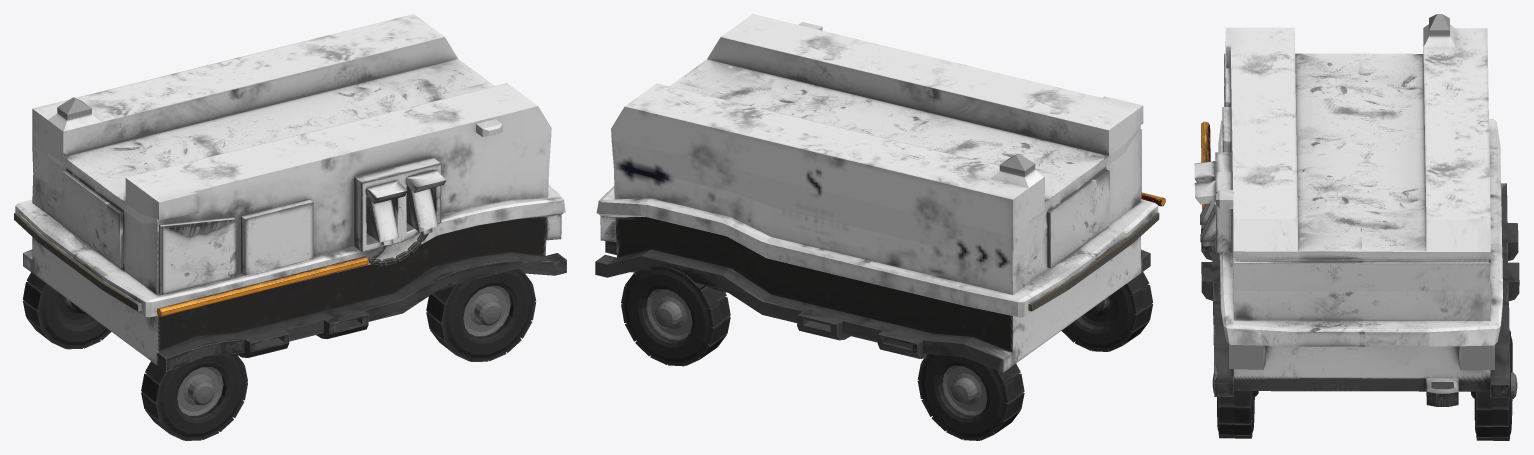
File: gpu unit final fbx.fbx
3 renders of one model, left to right at view 1: azimuth 30°, elevation 25°; view 2: azimuth 150°, elevation 25°; view 3: azimuth 270°, elevation 25°, orthographic. The views are drawn at different scales.
Parts seen in each view (by area): view 1: Base, whell back, wheel front, pipe; view 2: Base, whell back, wheel front; view 3: Base, wheel front, pipe.
Part boxes in pixels (<box>): Base: <box>14,14,566,371</box>; whell back: <box>23,272,247,440</box>; wheel front: <box>426,269,536,361</box>; pipe: <box>156,256,368,316</box>; Base: <box>595,14,1159,372</box>; whell back: <box>917,272,1152,440</box>; wheel front: <box>621,265,730,366</box>; Base: <box>1194,14,1519,406</box>; wheel front: <box>1212,330,1517,440</box>; pipe: <box>1201,121,1210,227</box>.
Size of the model in its own units: 4505 by 2586 by 2782.
5 materials, 5 textured.
